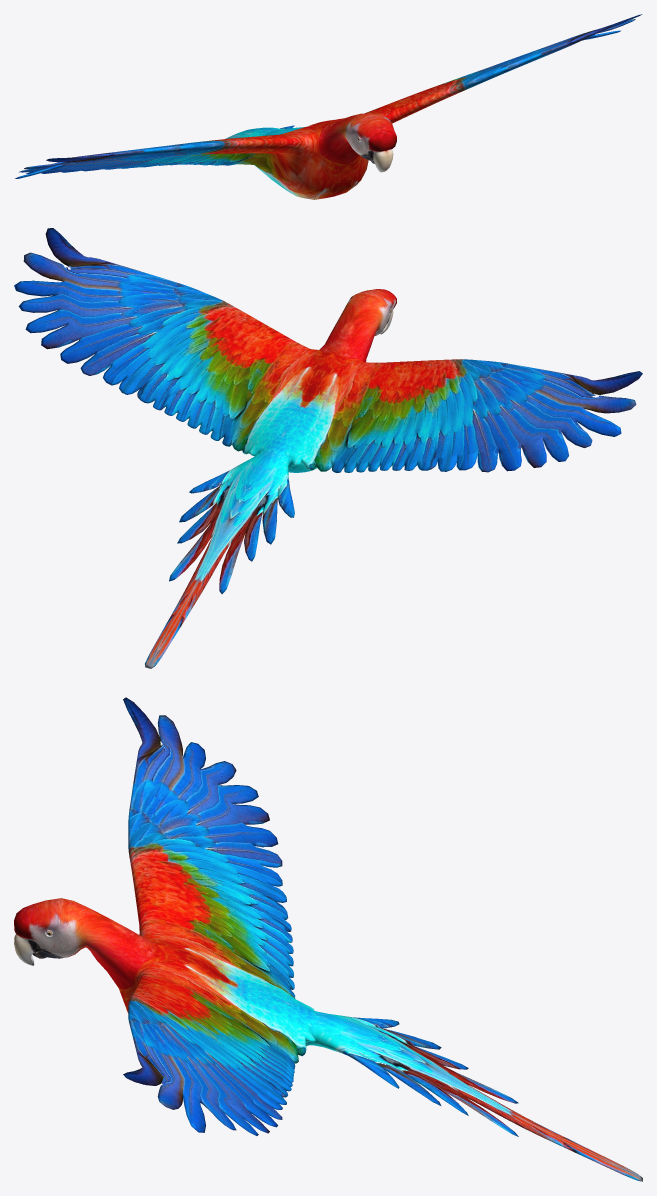
Rendered from bird.obj.
The picture shows the model from 3 angles, top to bottom: view 1: azimuth 30°, elevation 25°; view 2: azimuth 150°, elevation 25°; view 3: azimuth 270°, elevation 25°; orthographic projection. The views are drawn at different scales.
Parts seen in each view (by area): view 1: Guacamaya; view 2: Guacamaya; view 3: Guacamaya.
Boxes of the visible parts, left/top/right/bottom form: Guacamaya: left=15, top=14, right=642, bottom=199; Guacamaya: left=14, top=228, right=642, bottom=668; Guacamaya: left=14, top=697, right=642, bottom=1181.
Bounding box in the file's own units: 1.15 × 0.3997 × 0.7778.
Materials: 1 (1 with a texture image).
